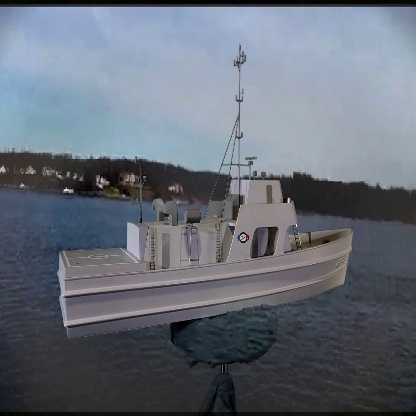YP689: (56, 42, 354, 343)
